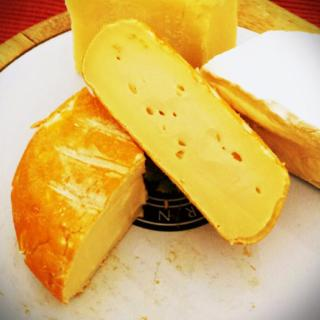Cheese: (79, 13, 290, 247), (10, 84, 150, 304), (203, 26, 320, 190), (64, 0, 237, 78)
